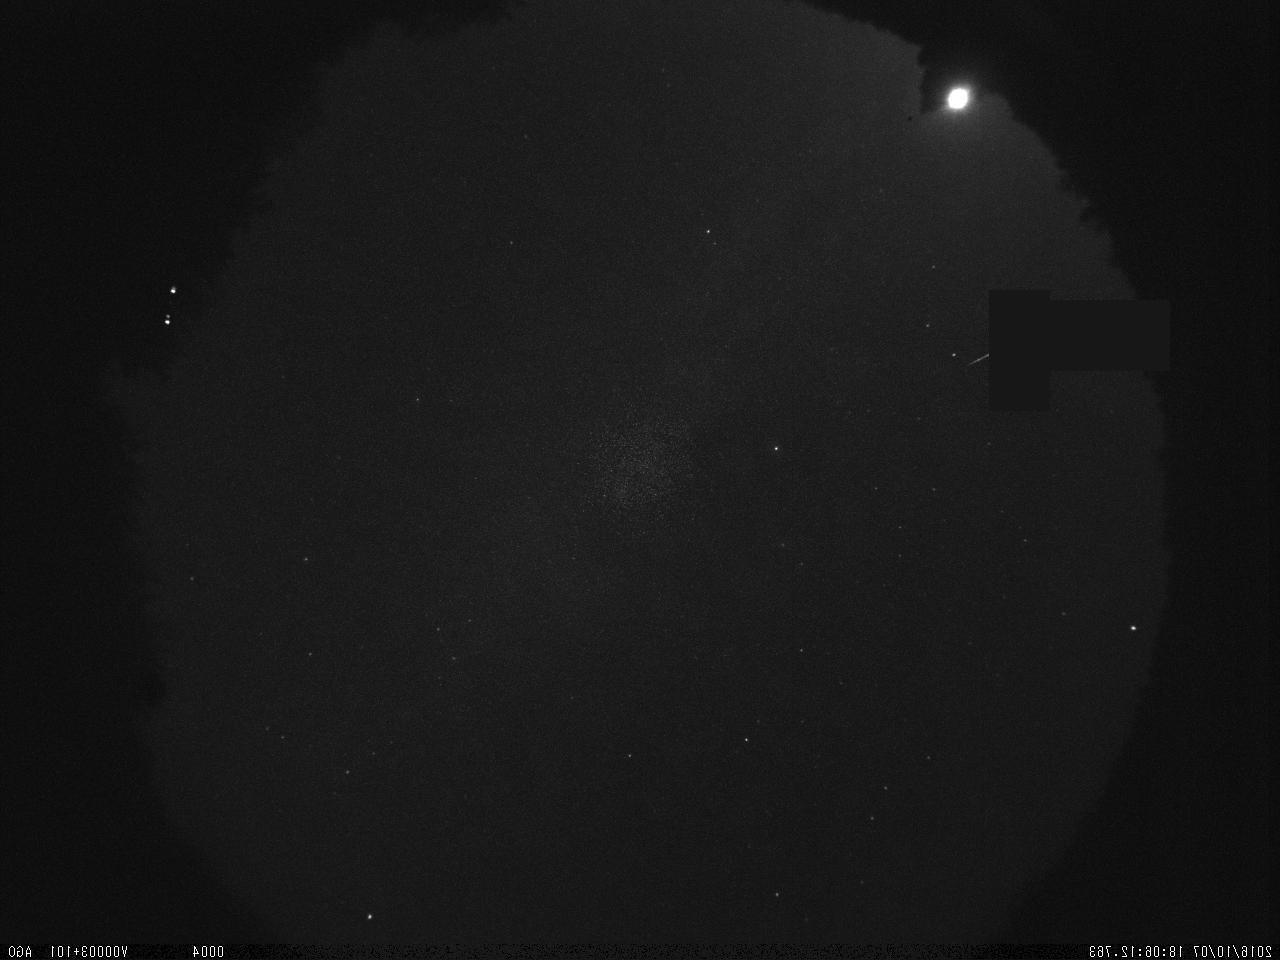meteor: (956, 329, 1019, 385)
